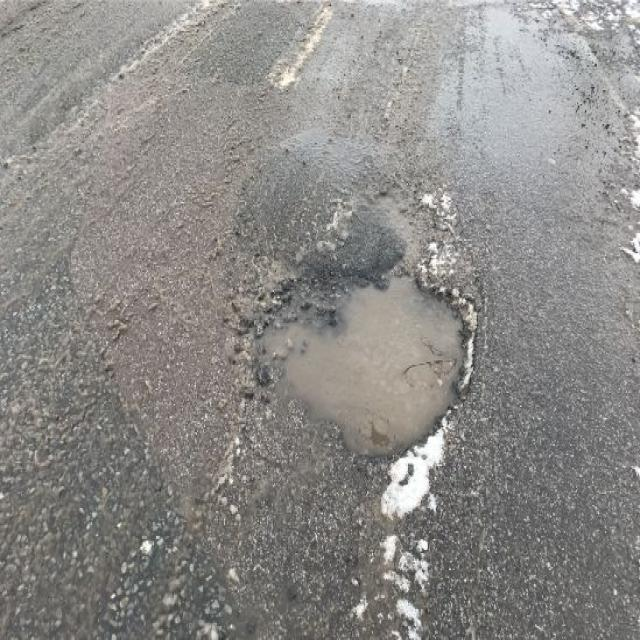Pothole: (239, 256, 477, 468)
